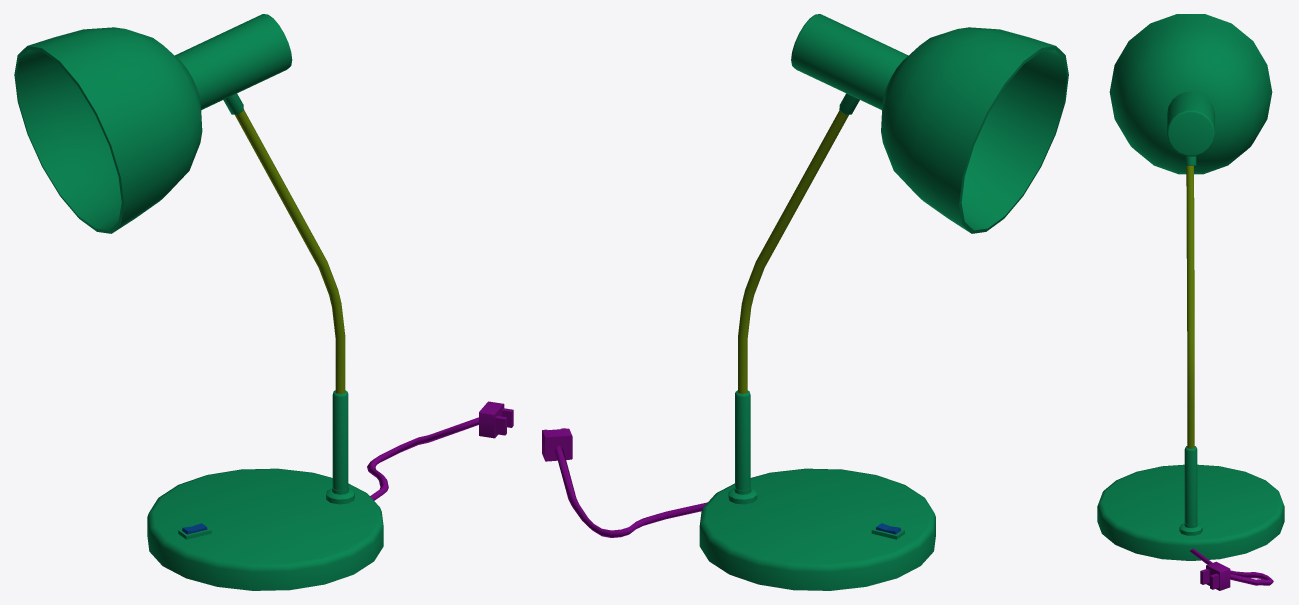
The model's file is SM_Desk_Lamp.fbx.
3 renders of one model, left to right at view 1: azimuth 30°, elevation 25°; view 2: azimuth 150°, elevation 25°; view 3: azimuth 270°, elevation 25°, orthographic. The views are drawn at different scales.
Parts seen in each view (by area): view 1: SM_Desk_Lamp; view 2: SM_Desk_Lamp; view 3: SM_Desk_Lamp.
Part boxes in pixels (x1,y1,x2,y2): SM_Desk_Lamp: (14, 14, 513, 590); SM_Desk_Lamp: (542, 14, 1068, 590); SM_Desk_Lamp: (1097, 14, 1284, 590).
Bounding box in the file's own units: 52.18 × 56.78 × 22.53.
